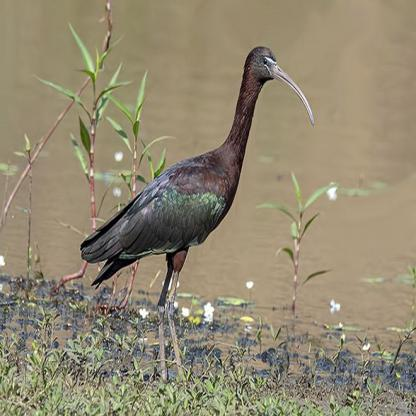Burung: (76, 44, 314, 385)
